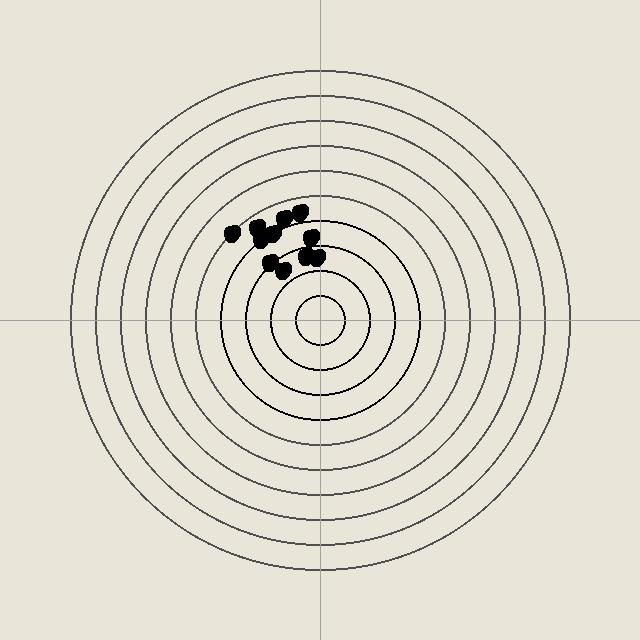good_group: (221, 223, 241, 243), (250, 229, 270, 249), (259, 252, 279, 272), (246, 217, 266, 237), (289, 202, 309, 222), (272, 260, 292, 280), (295, 246, 315, 266), (306, 247, 326, 267), (262, 223, 282, 243), (300, 227, 320, 247), (273, 208, 293, 228)
